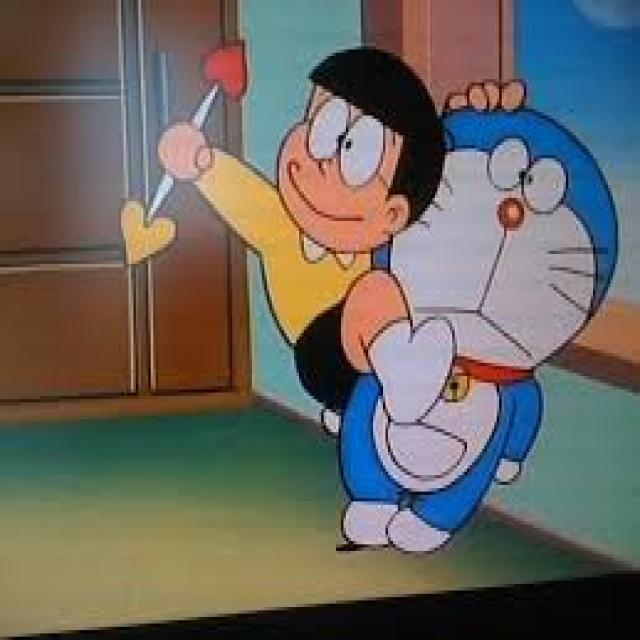doraemon: (373, 92, 620, 409)
nobita: (255, 40, 450, 274)
